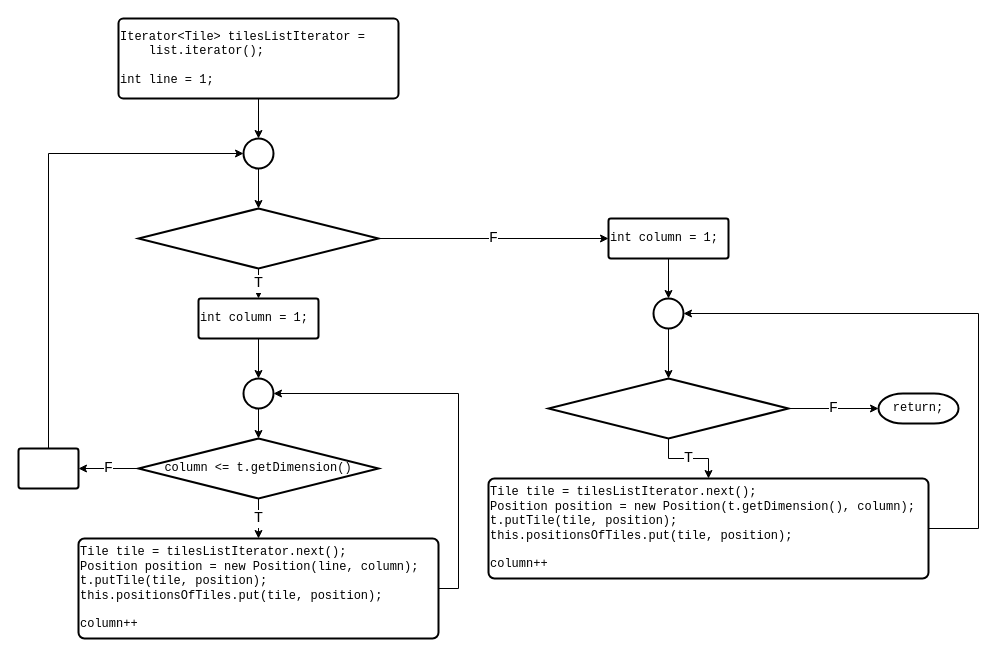
Some shapes in this 1004 by 656 pixel diagram are drawn without their labels. Each missing label, with the centre of its shape:
column < t.getDimension(): (668,408)
line < t.getDimension(): (258,238)
line++;: (48,468)
